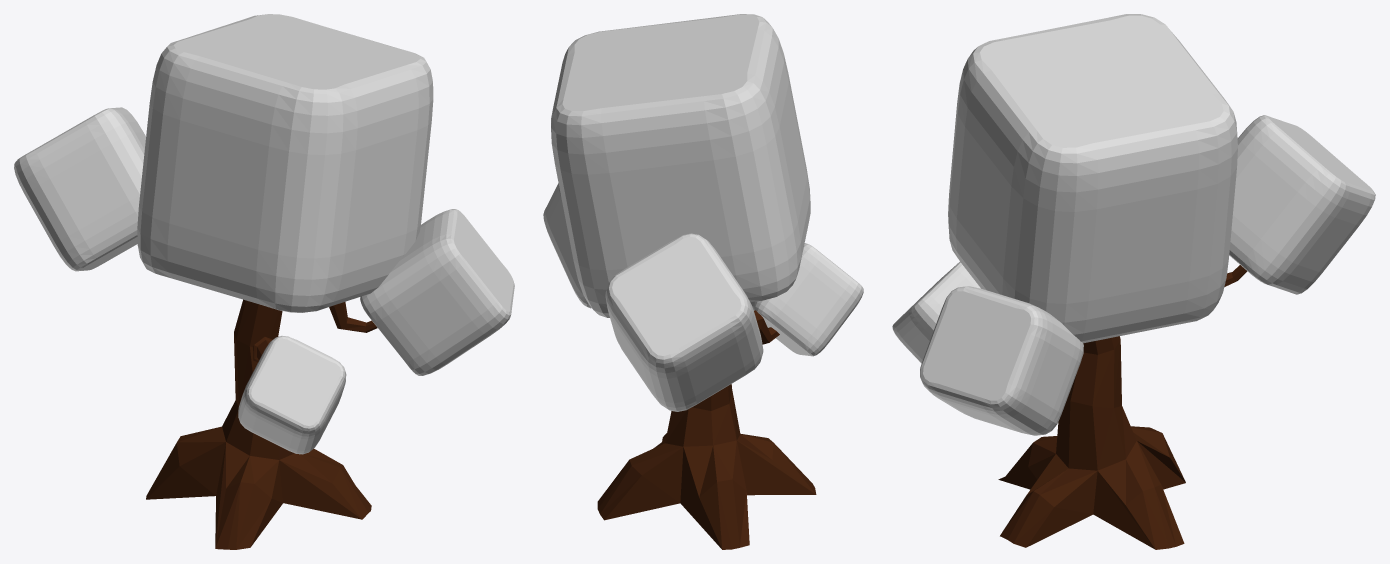
File: Tree2.FBX
The picture shows the model from 3 angles, left to right: view 1: azimuth 30°, elevation 25°; view 2: azimuth 150°, elevation 25°; view 3: azimuth 270°, elevation 25°; orthographic projection. The views are drawn at different scales.
Visible parts, largest first — view 1: Box003, Cylinder016; view 2: Box003, Cylinder016; view 3: Box003, Cylinder016.
Part boxes in pixels (x1=…): Box003: x1=14, y1=14, x2=514, y2=454; Cylinder016: x1=146, y1=299, x2=377, y2=549; Box003: x1=543, y1=14, x2=863, y2=411; Cylinder016: x1=597, y1=310, x2=816, y2=549; Box003: x1=892, y1=14, x2=1375, y2=435; Cylinder016: x1=998, y1=265, x2=1247, y2=549.
Size of the model in its own units: 206 by 257 by 240.
